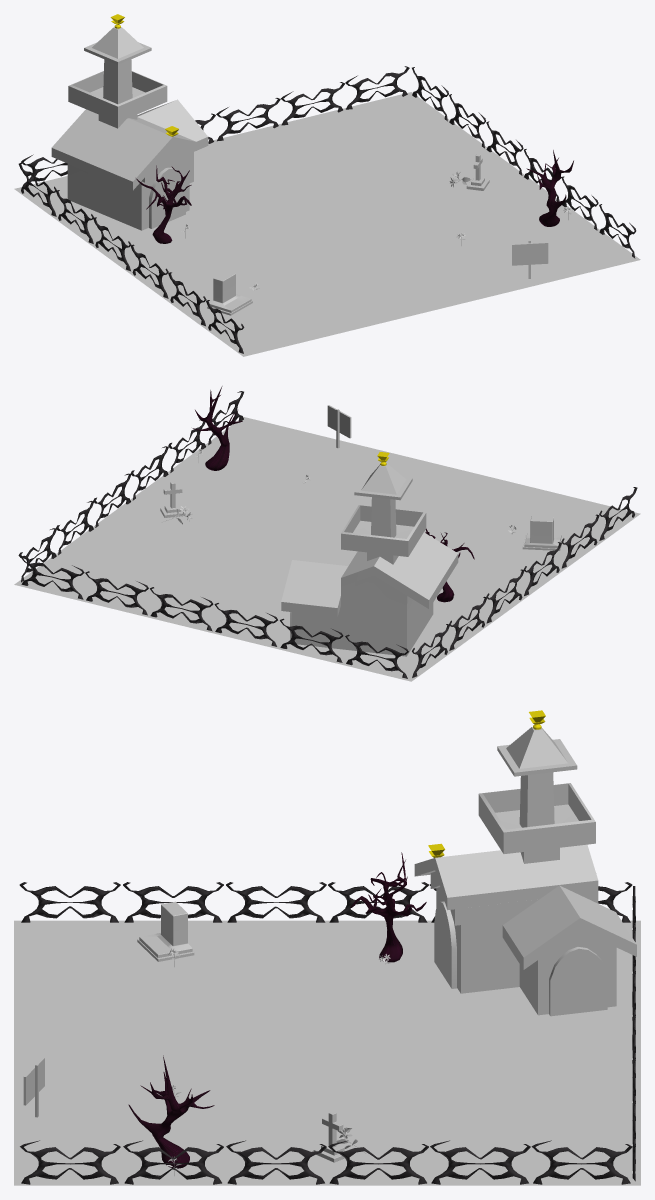
The model's file is cluster822.fbx.
3 views of the same model, one above another, from view 1: azimuth 30°, elevation 25°; view 2: azimuth 150°, elevation 25°; view 3: azimuth 270°, elevation 25° (orthographic). The views are drawn at different scales.
Parts seen in each view (by area): view 1: ground, pCube7, saku4, treeA1, tomb4, treeB, kanban:pCube1; view 2: ground, pCube7, saku4, treeB, tomb4, kanban:pCube1, tomb3; view 3: ground, pCube7, saku4, treeB, tomb4, treeA1, kanban:pCube1, tomb3.
Part boxes in pixels (x1,y1,x2,y2): ground: (14,92,640,356); pCube7: (51,14,208,230); saku4: (18,66,636,353); treeA1: (136,165,191,243); tomb4: (207,271,252,315); treeB: (526,150,573,226); kanban:pCube1: (512,240,548,278); ground: (14,417,640,681); pCube7: (281,452,458,656); saku4: (18,391,637,678); treeB: (192,386,242,470); tomb4: (522,516,563,550); kanban:pCube1: (327,405,351,448); tomb3: (160,482,185,517); ground: (14,920,640,1185); pCube7: (414,710,636,1016); saku4: (19,882,635,1184); treeB: (128,1055,214,1168); tomb4: (137,901,194,961); treeA1: (350,852,426,962); kanban:pCube1: (23,1057,44,1117); tomb3: (313,1111,347,1162).
Bounding box in the file's own units: 3000 × 1328 × 3000.
